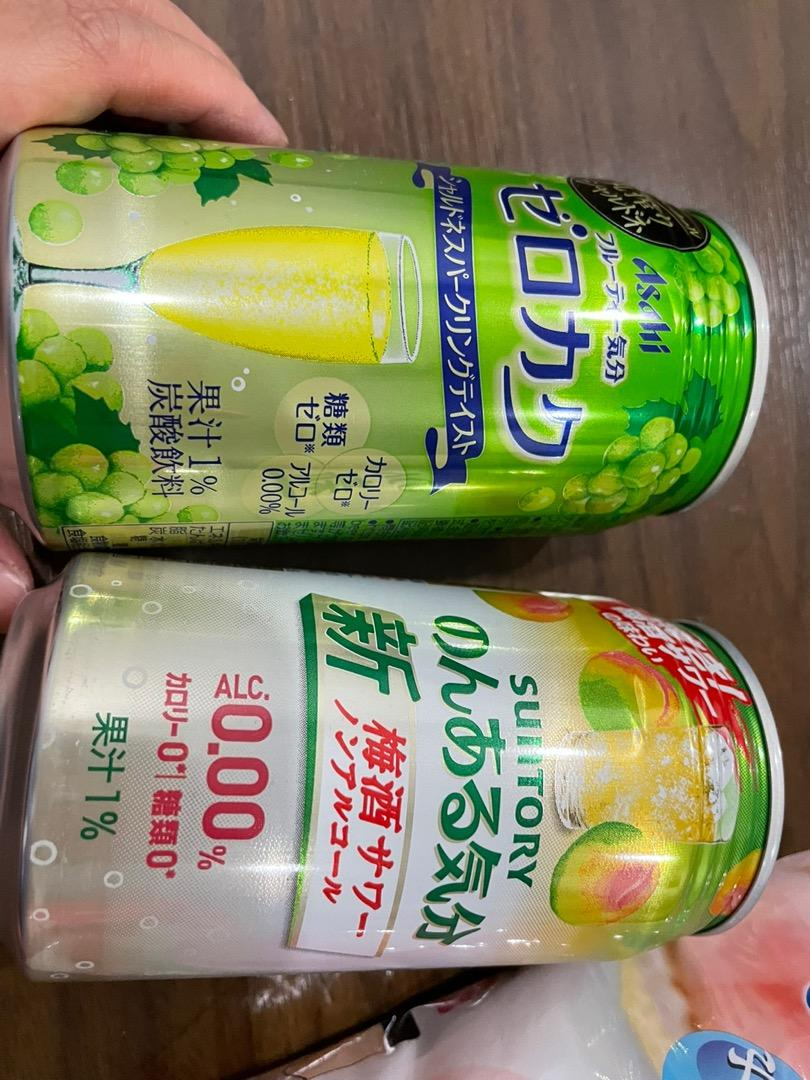metal: (4, 118, 778, 552), (4, 568, 788, 978)
